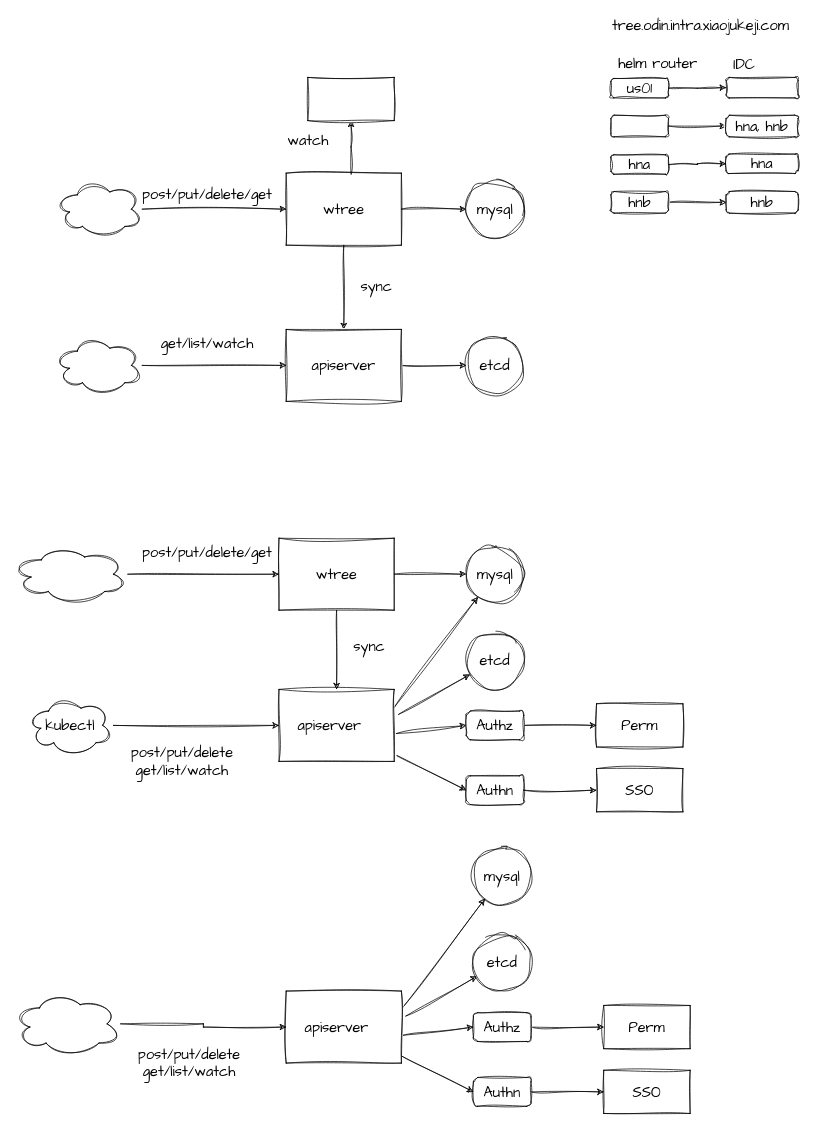
Some shapes in this 825 by 1126 pixel diagram are drawn without their labels. The centre of each missing label's shape, as x and y in pixels:
"hna，hnb" belongs at (x=761, y=87).
"http client" belongs at (x=70, y=574).
"kube-odin" belongs at (x=350, y=99).
"kubectl client-go" belongs at (x=66, y=1023).
"ru01" belongs at (x=639, y=125).
